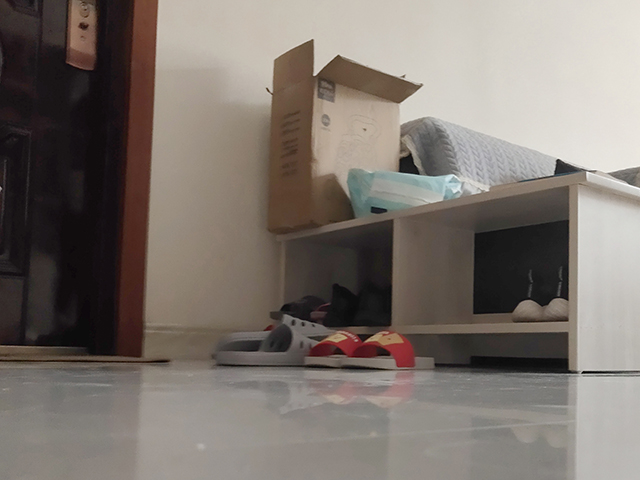cabinet: (273, 171, 640, 377)
carpet: (1, 351, 171, 364)
slippers: (216, 322, 320, 364), (348, 333, 436, 373), (308, 331, 358, 365)
